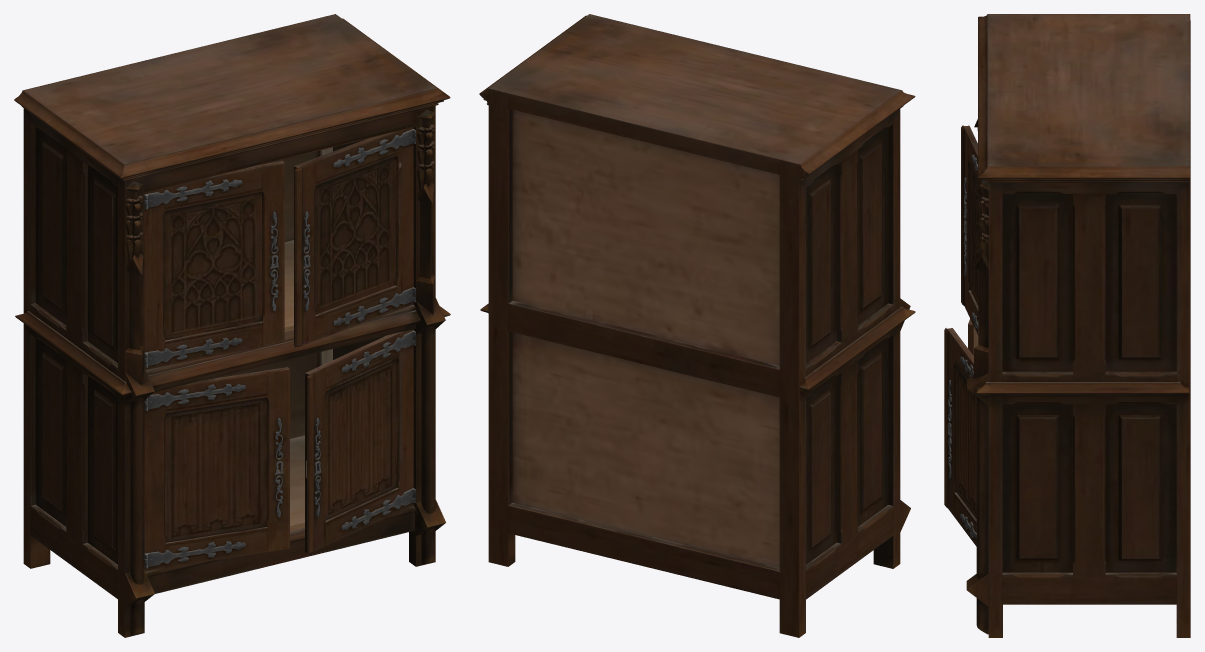
The model's file is GothicCabinet_01.glb.
3 views of the same model, side by side, from view 1: azimuth 30°, elevation 25°; view 2: azimuth 150°, elevation 25°; view 3: azimuth 270°, elevation 25° (orthographic).
Visible parts, largest first — view 1: GothicCabinet_01_cabinet, GothicCabinet_01_door3, GothicCabinet_01_door1, GothicCabinet_01_door2, GothicCabinet_01_door4; view 2: GothicCabinet_01_cabinet; view 3: GothicCabinet_01_cabinet, GothicCabinet_01_door4, GothicCabinet_01_door2.
Part boxes in pixels (bbox=[...]): GothicCabinet_01_cabinet: bbox=[14, 14, 450, 637]; GothicCabinet_01_door3: bbox=[144, 367, 289, 571]; GothicCabinet_01_door1: bbox=[144, 160, 284, 369]; GothicCabinet_01_door2: bbox=[294, 127, 415, 347]; GothicCabinet_01_door4: bbox=[305, 329, 415, 554]; GothicCabinet_01_cabinet: bbox=[479, 14, 915, 637]; GothicCabinet_01_cabinet: bbox=[966, 14, 1190, 637]; GothicCabinet_01_door4: bbox=[944, 328, 976, 546]; GothicCabinet_01_door2: bbox=[961, 125, 986, 335].
Bounding box in the file's own units: 1.72 × 2.36 × 1.12.
Materials: 1 (1 with a texture image).
